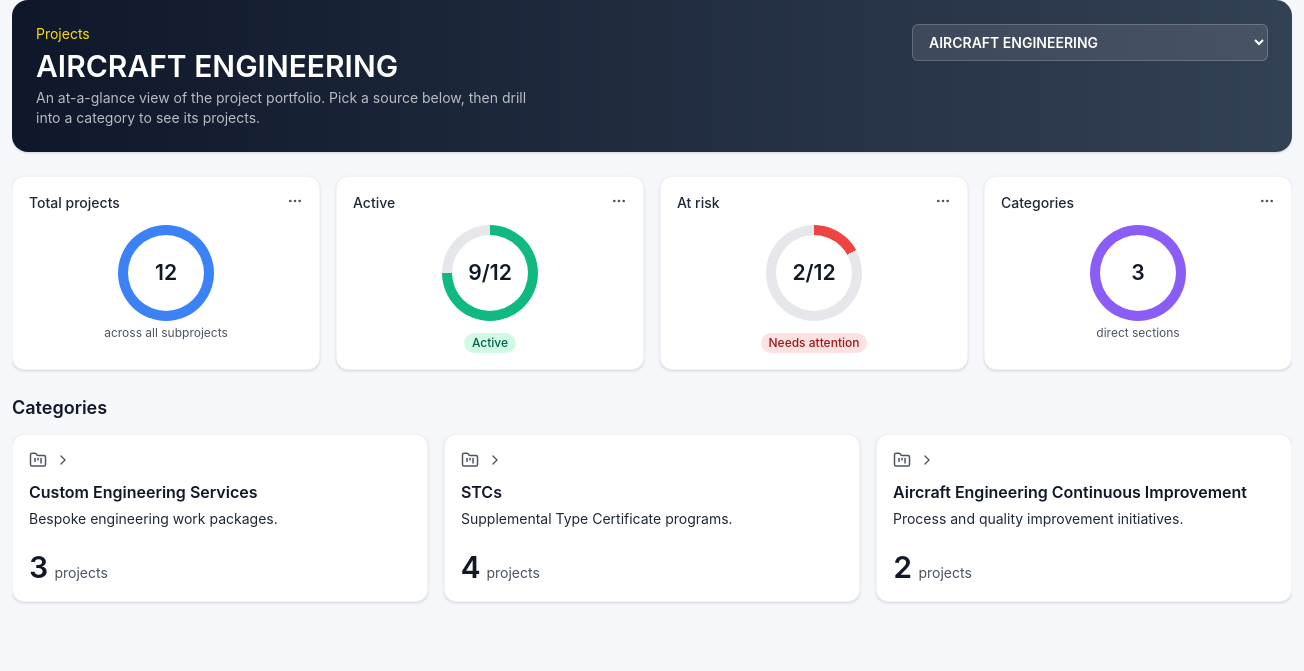
Test: <Projects /> category dashboard › swapping the project source re-derives the categories
Expected: the button with test id "category-card-stcs" is shown, x1=444 y1=434 x2=860 y2=602
Switch the source to STCs itself — its children become the categories.
Select "STCs" in the dropdown named "Project source". click: (1090, 42)
box: x1=912 y1=24 x2=1268 y2=61
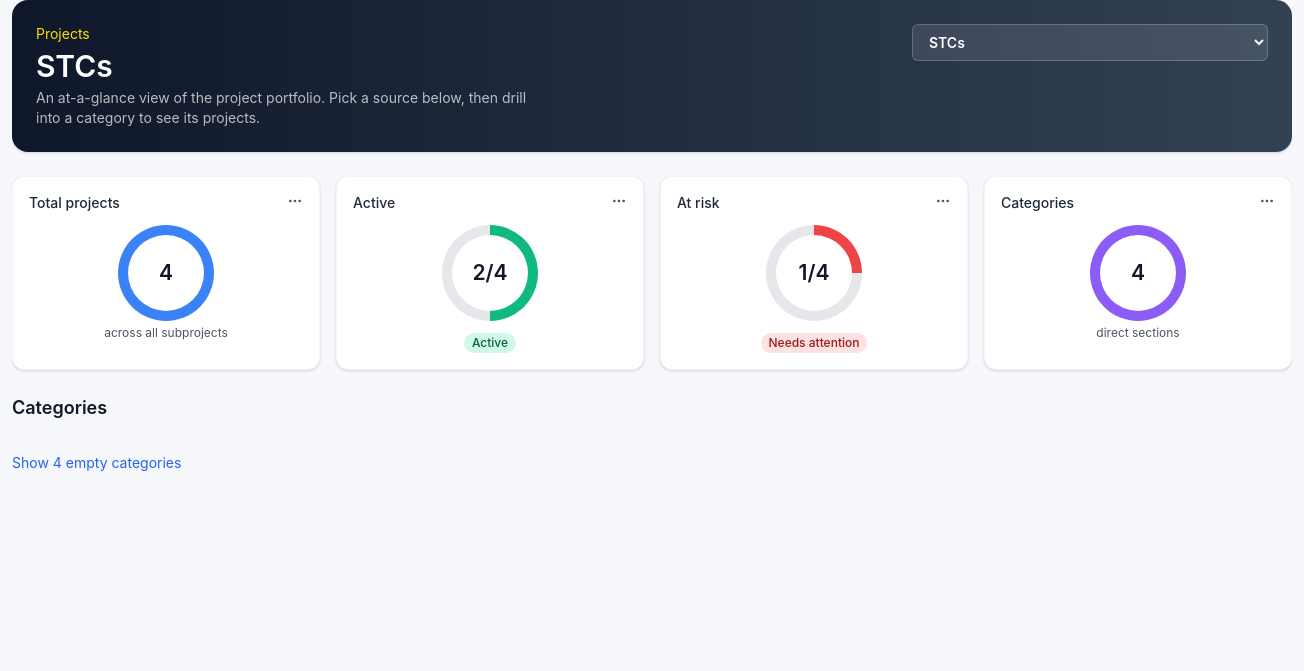
Expected: the button with test id "toggle-empty-categories" is shown
Click the button with test id "toggle-empty-categories". click: (97, 463)
box: x1=12 y1=453 x2=181 y2=473
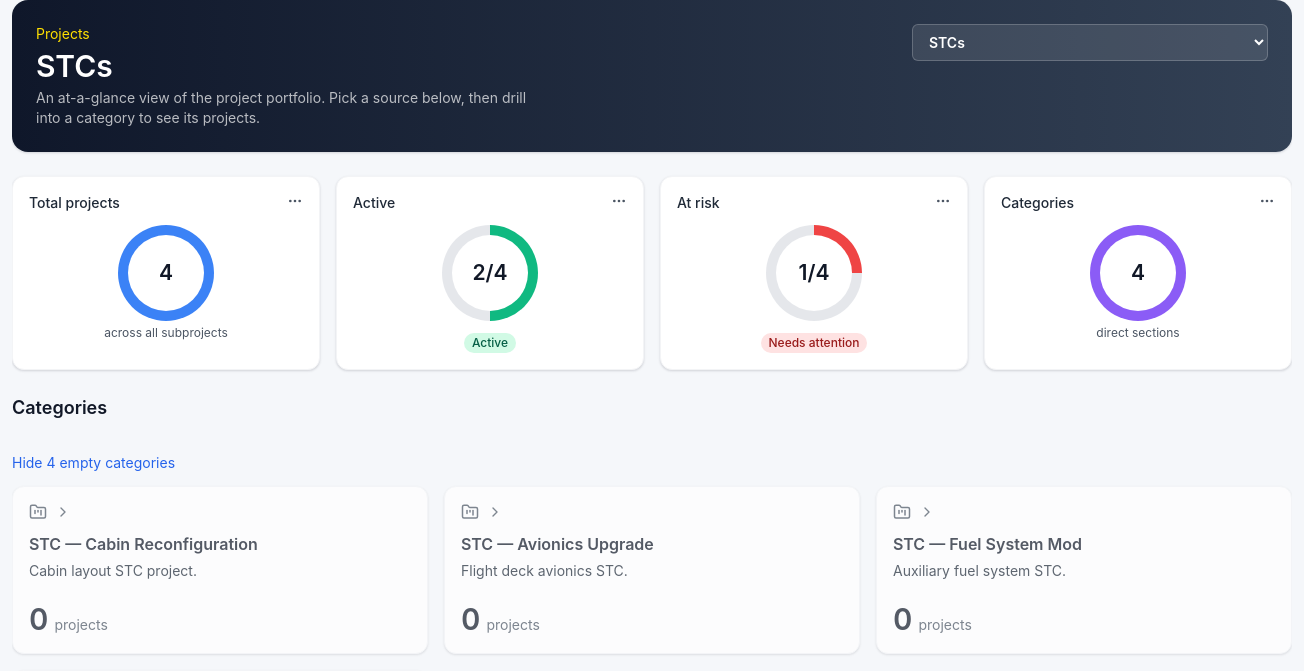
Expected: the button with test id "category-card-stc-cabin-reconfiguration" is shown, x1=12 y1=486 x2=428 y2=654
